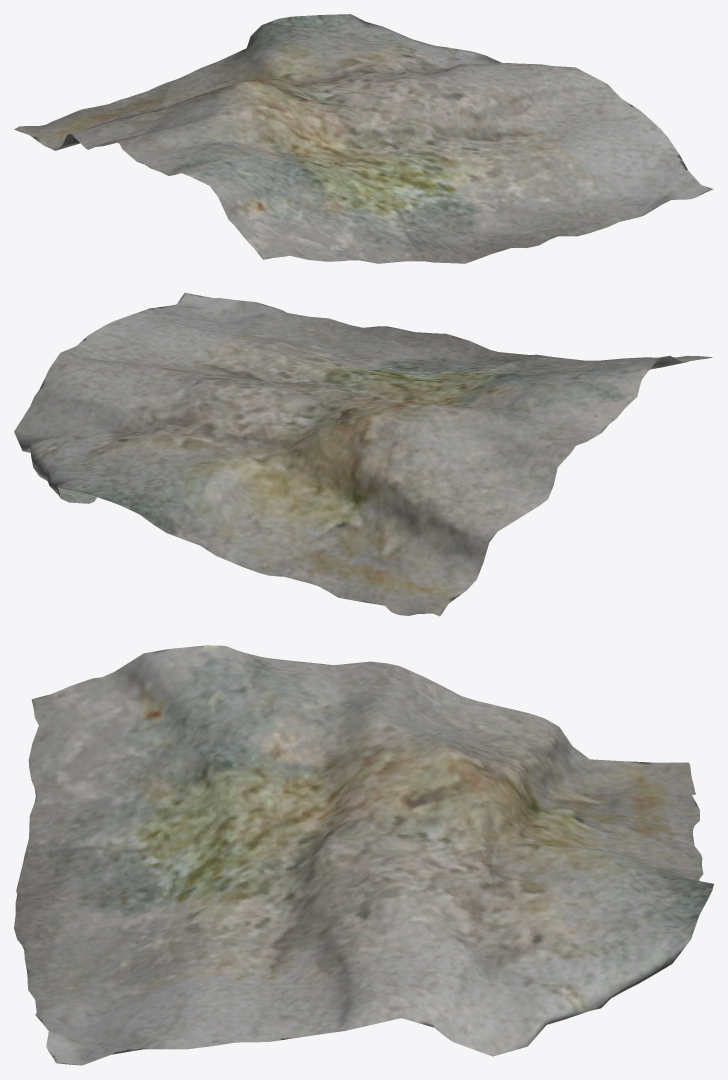
Rendered from bunPaper01.FBX.
3 renders of one model, top to bottom at view 1: azimuth 30°, elevation 25°; view 2: azimuth 150°, elevation 25°; view 3: azimuth 270°, elevation 25°, orthographic. The views are drawn at different scales.
Parts seen in each view (by area): view 1: SM_BunPaper01; view 2: SM_BunPaper01; view 3: SM_BunPaper01.
Part boxes in pixels (box(x1,y1,x2,y2)): SM_BunPaper01: box(14, 14, 713, 263); SM_BunPaper01: box(14, 292, 712, 616); SM_BunPaper01: box(14, 645, 713, 1065).
Bounding box in the file's own units: 15.79 × 2.87 × 14.93.
Materials: 1 (1 with a texture image).
